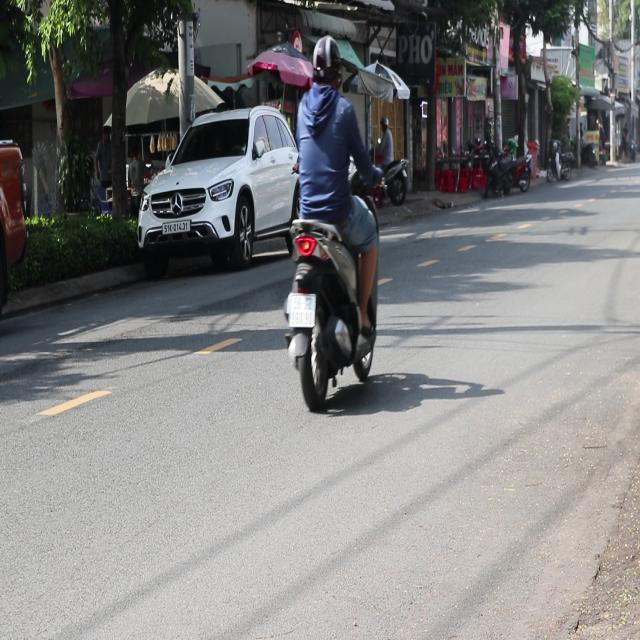helmet: (309, 33, 342, 91)
licenseplate: (281, 31, 384, 410)
nohelmet: (288, 292, 316, 326)
